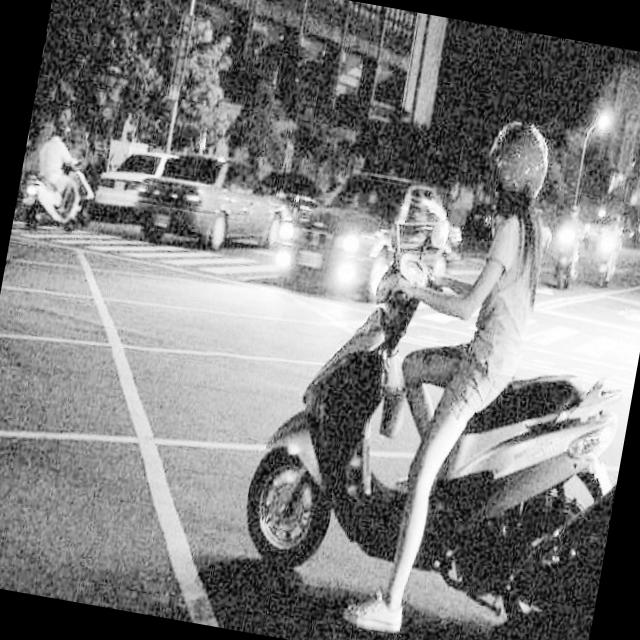Car: (254, 151, 473, 316)
Motorcycle: (223, 291, 638, 640), (11, 164, 88, 245), (576, 207, 634, 302), (545, 225, 584, 282)
Person: (353, 98, 574, 640), (26, 114, 80, 198)
